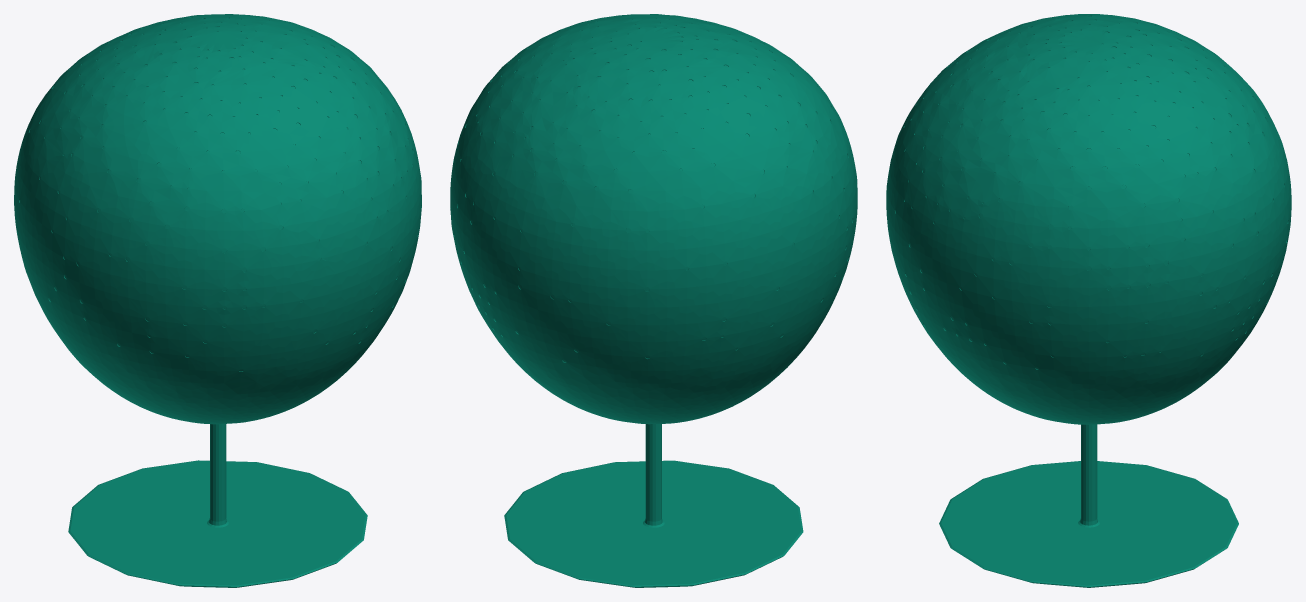
The model's file is spherelamp.obj.
3 views of the same model, side by side, from view 1: azimuth 30°, elevation 25°; view 2: azimuth 150°, elevation 25°; view 3: azimuth 270°, elevation 25° (orthographic).
Parts seen in each view (by area): view 1: Line051, Line01; view 2: Line051, Line01; view 3: Line051, Line01.
Boxes of the visible parts, x1,y1,x2,y2 form: Line051: (14, 14, 421, 587); Line01: (20, 19, 413, 371); Line051: (450, 14, 857, 587); Line01: (457, 23, 852, 362); Line051: (886, 14, 1291, 587); Line01: (895, 20, 1287, 369).
Size of the model in its own units: 574 by 777 by 574.
